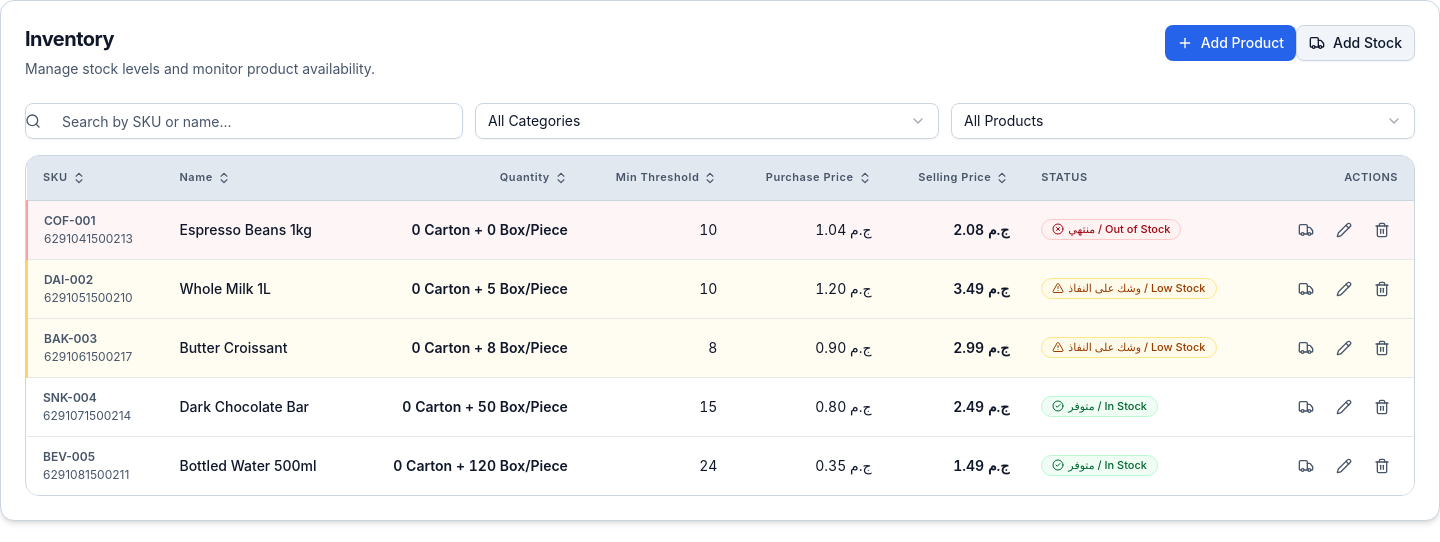
Test case: InventoryTable › filters to low and out of stock products together
Click the dropdown named "filter by stock". click: (1004, 120)
box: [951,103,1415,139]
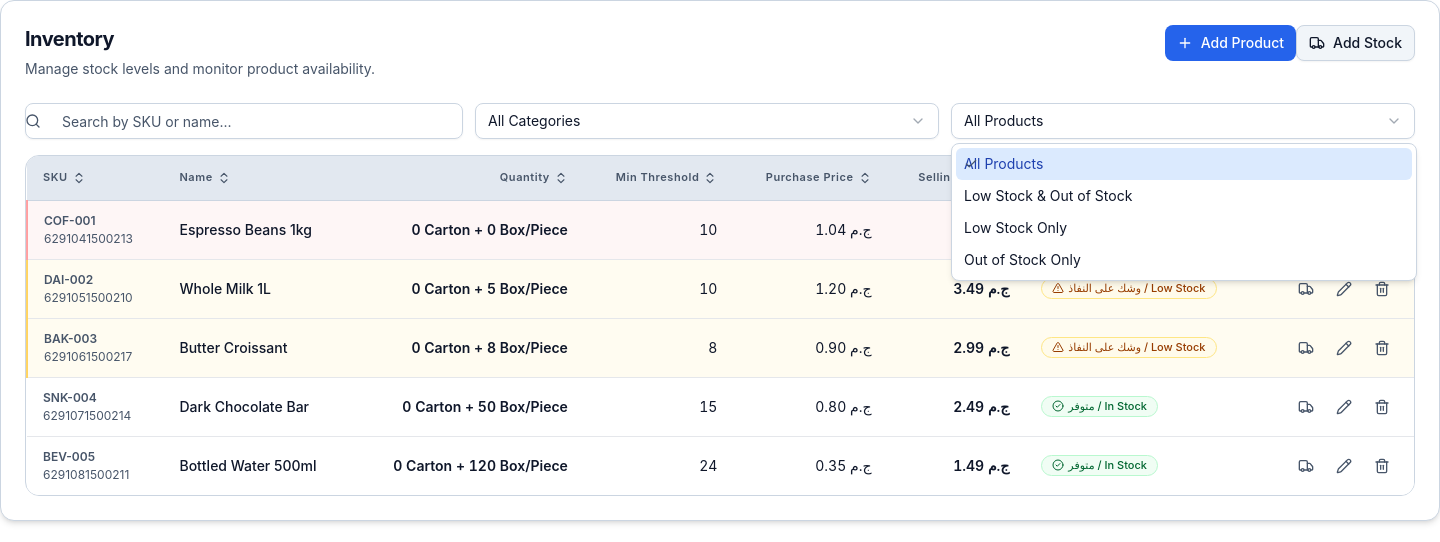
Click the option "Low Stock & Out of Stock". click: (1048, 196)
box: [964,187,1132,204]
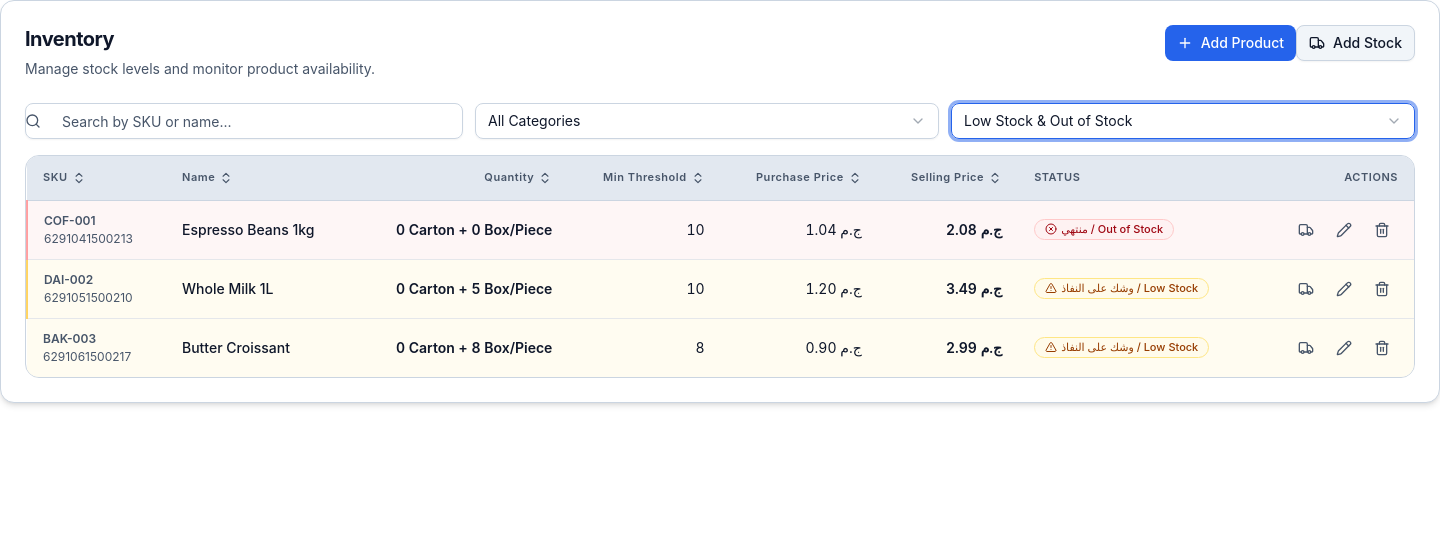
Expected: the text "Espresso Beans 1kg" is shown, [182,220,314,240]
Expected: the text "Dark Chocolate Bar" is gone
Expected: the text "Bottled Water 500ml" is gone
